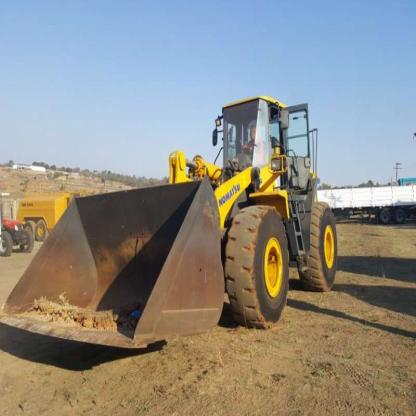bull_dozer/loader/grader: (0, 91, 341, 361)
